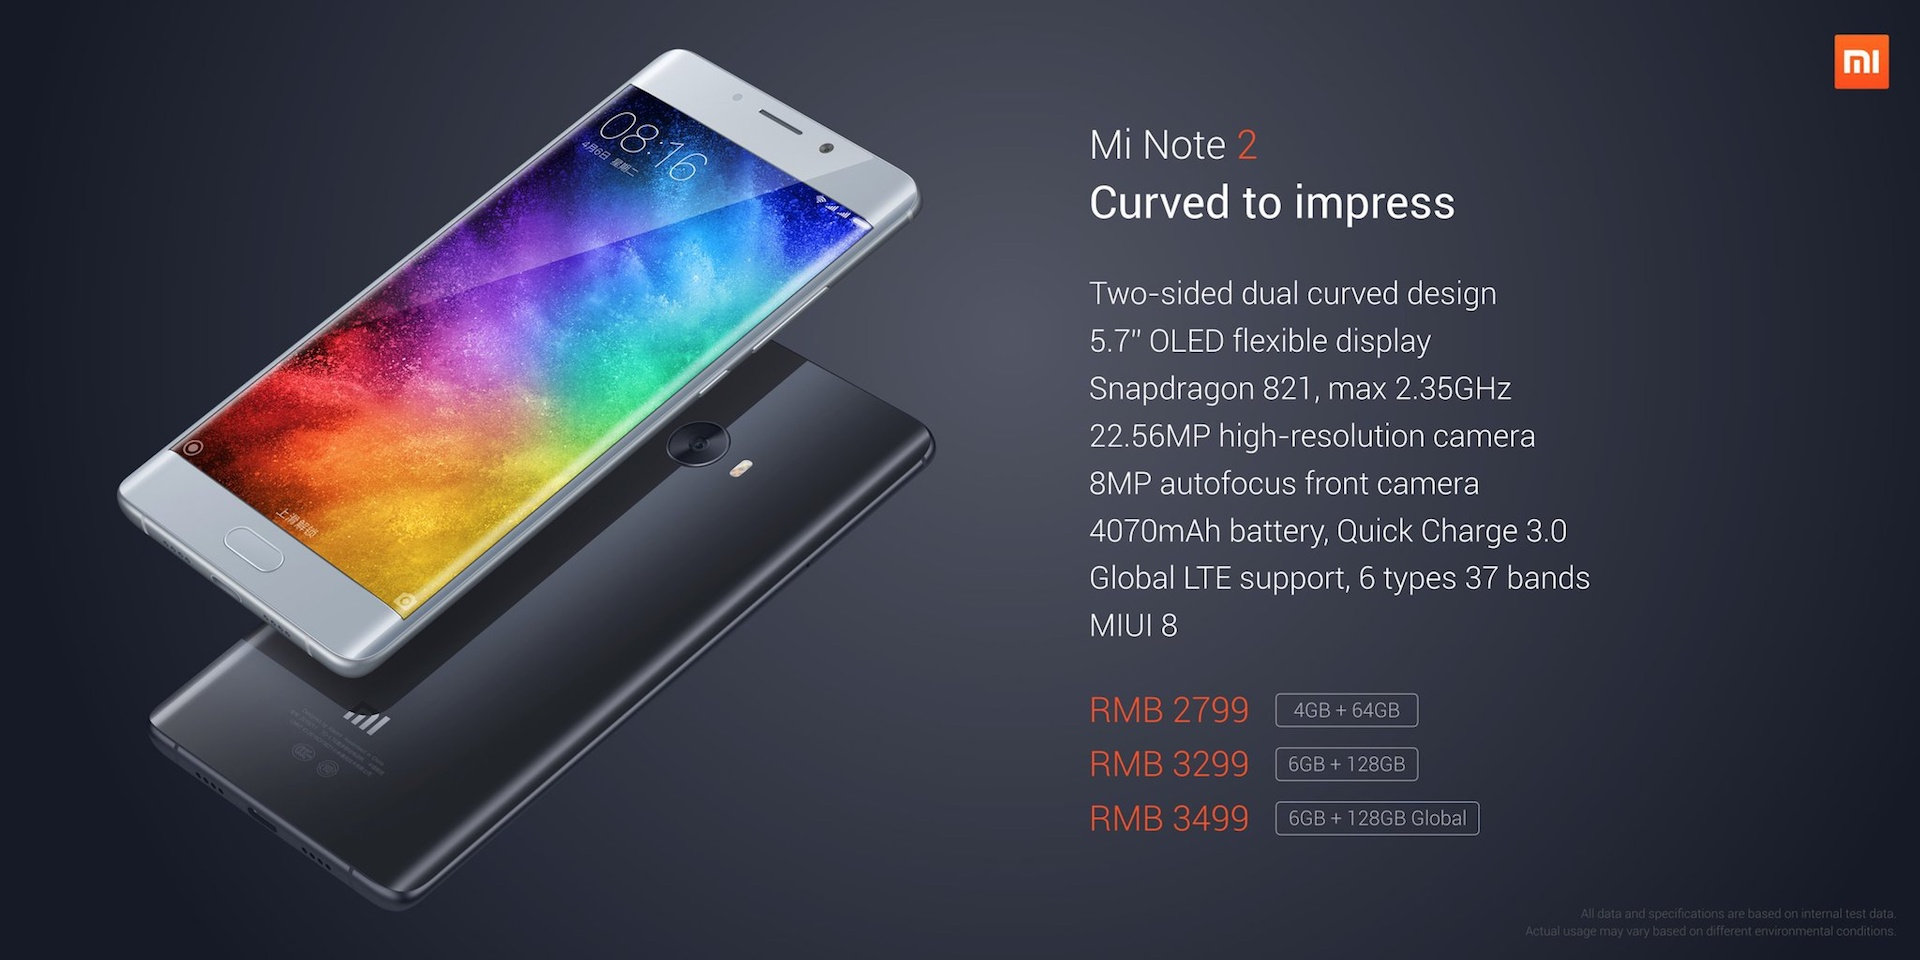smartphone: (113, 44, 927, 680), (144, 336, 938, 915)
